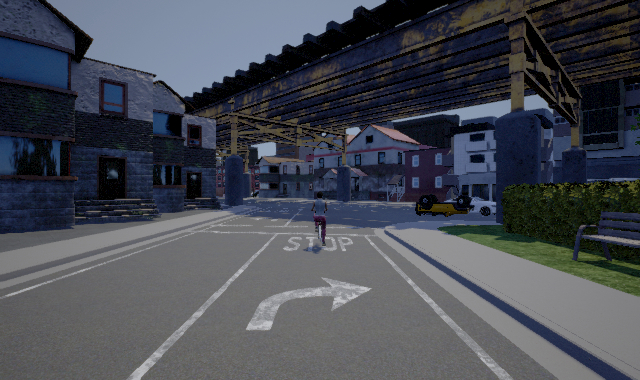bike: (309, 191, 331, 251)
vehicle: (415, 194, 472, 216), (443, 194, 498, 216)
